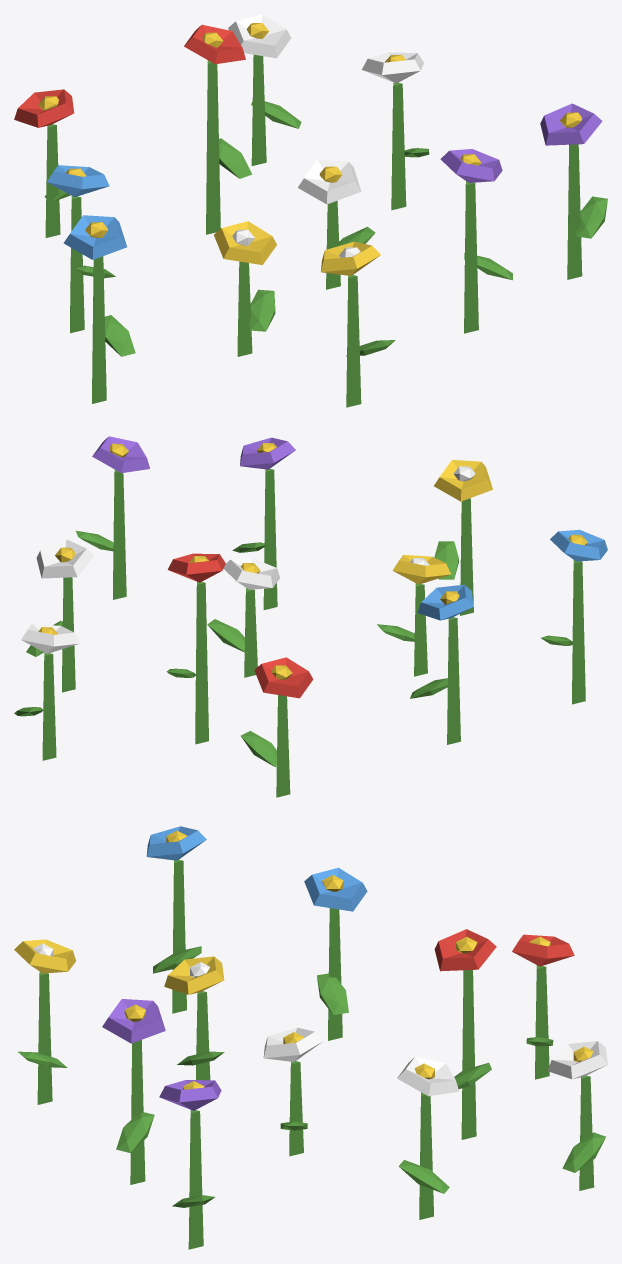
File: prop-flowers.glb
3 renders of one model, top to bottom at view 1: azimuth 30°, elevation 25°; view 2: azimuth 150°, elevation 25°; view 3: azimuth 270°, elevation 25°, orthographic. The views are drawn at different scales.
Visible parts, largest first — view 1: Flowers; view 2: Flowers; view 3: Flowers.
Part boxes in pixels (bbox=[...]): Flowers: bbox=[14, 14, 607, 407]; Flowers: bbox=[14, 436, 607, 797]; Flowers: bbox=[14, 826, 607, 1249].
Size of the model in its own units: 1.42 by 0.486 by 1.32.
